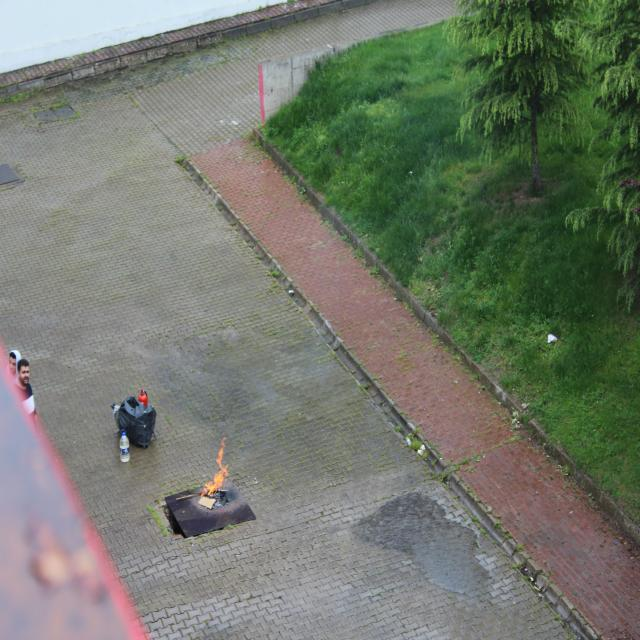fire: (186, 423, 247, 515)
